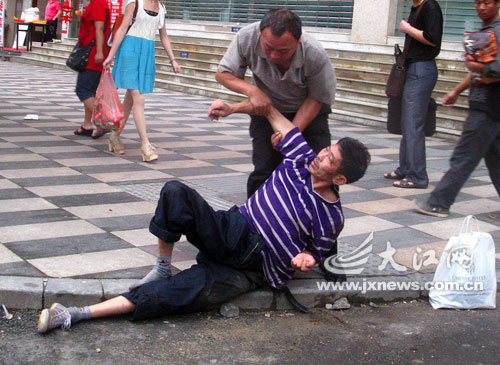fall: (26, 104, 375, 340)
